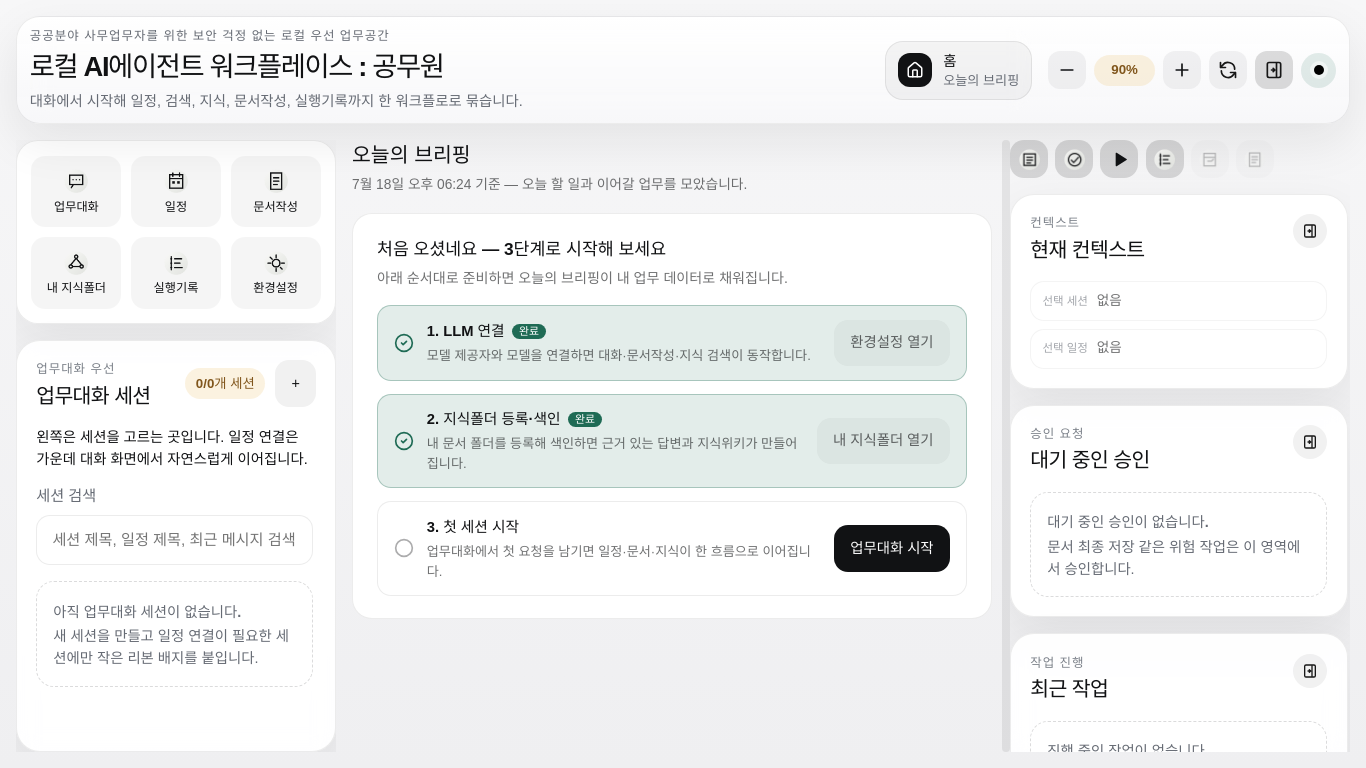
Test: knowledge incremental sync P3 (verify / drift badge / startup diff) › runs the startup diff once after the 10s idle delay and feeds the dashboard badge (§9 v2)
The width and height of the screenshot is (1366, 768).
Step 1. Click the button "내 지식폴더" → (76, 273), box [31,237,121,309]
(page scrolled)
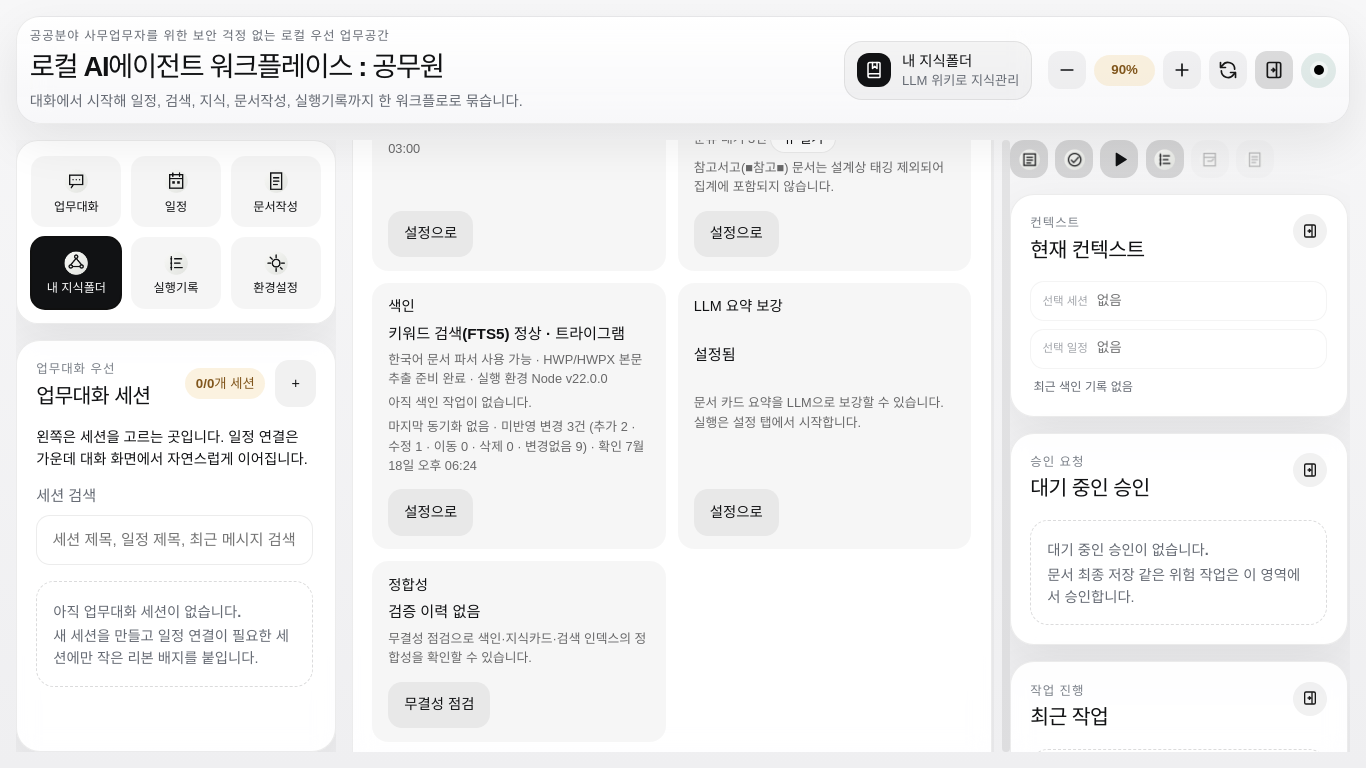
Now the text with test id "knowledge-status-indexing-diff" shows "미반영 변경 3건", box [388,417,650,475]
